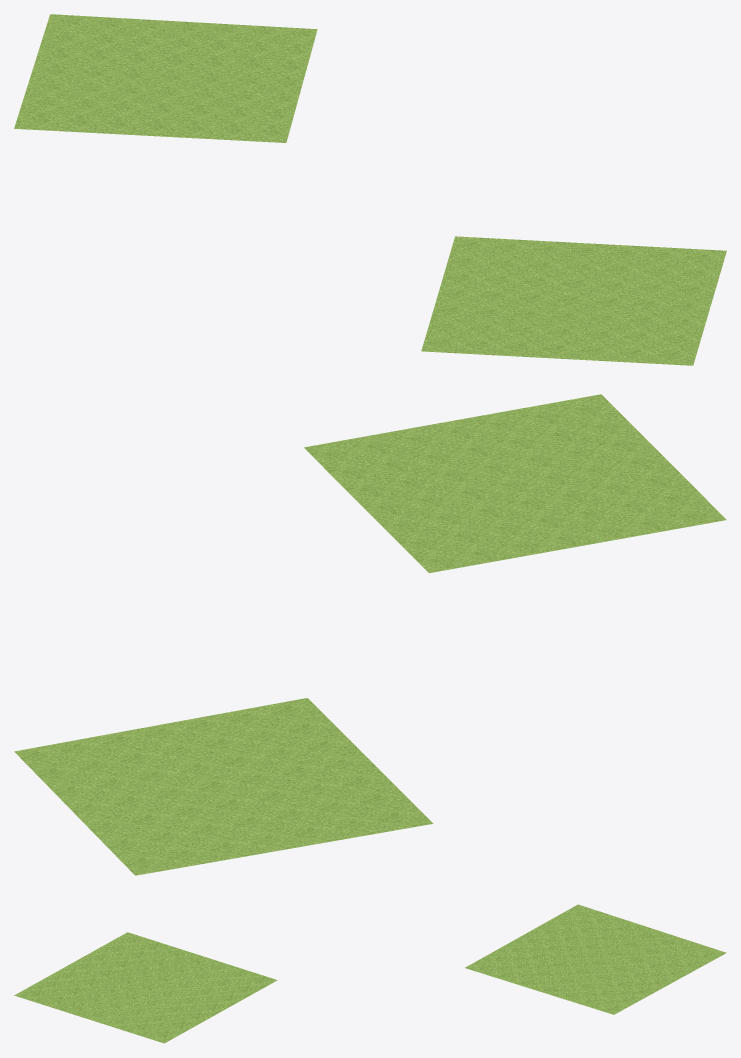
The model's file is kd_stage_1366d7_8_1_bounded.glb.
3 views of the same model, one above another, from view 1: azimuth 30°, elevation 25°; view 2: azimuth 150°, elevation 25°; view 3: azimuth 270°, elevation 25° (orthographic). The views are drawn at different scales.
Parts seen in each view (by area): view 1: kd_stage_1366d7_8_1_bounded; view 2: kd_stage_1366d7_8_1_bounded; view 3: kd_stage_1366d7_8_1_bounded.
Part boxes in pixels (<box>): kd_stage_1366d7_8_1_bounded: <box>14,14,726,365</box>; kd_stage_1366d7_8_1_bounded: <box>14,394,726,875</box>; kd_stage_1366d7_8_1_bounded: <box>14,904,726,1043</box>.
Size of the model in its own units: 98.86 by 0.4082 by 216.
Materials: 1 (1 with a texture image).
